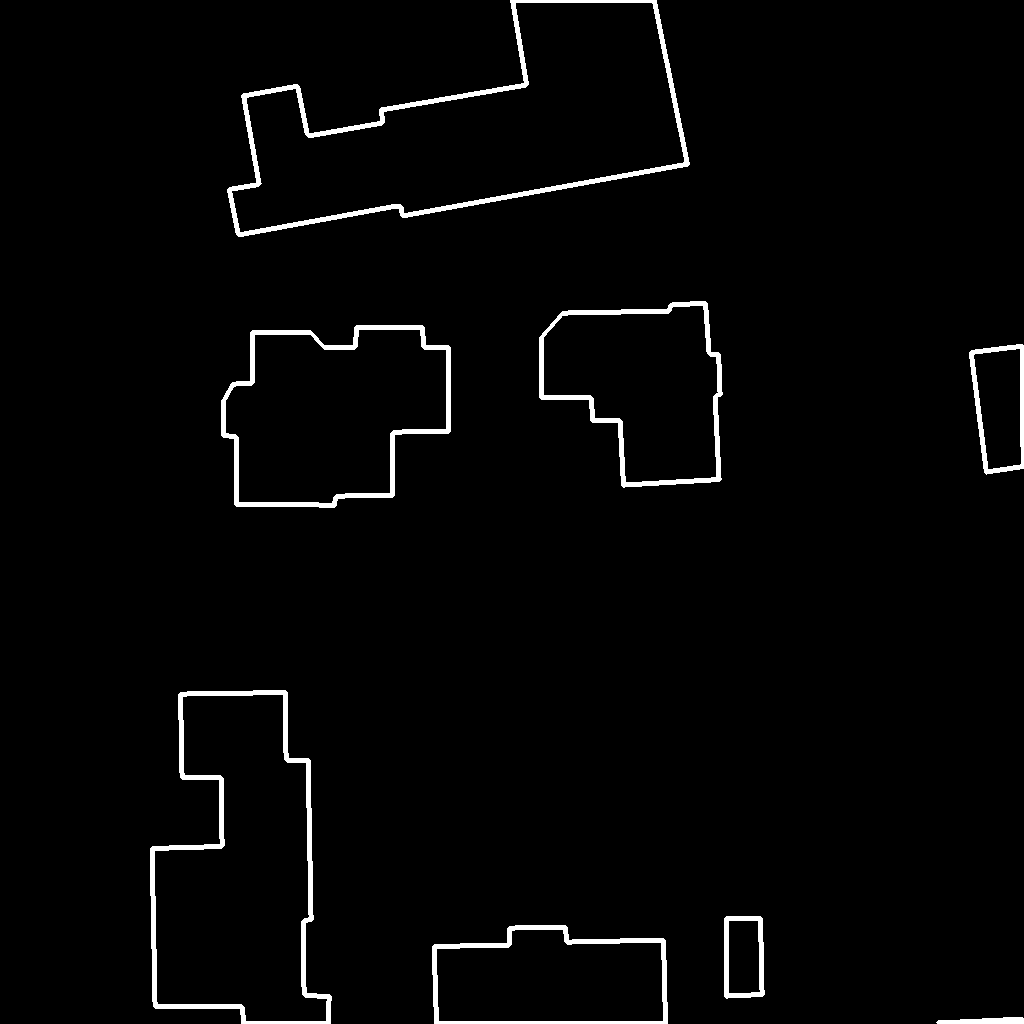building: (229, 0, 689, 236), (152, 692, 330, 1024), (223, 327, 449, 506), (541, 303, 721, 486), (434, 927, 667, 1024), (971, 346, 1024, 473), (726, 918, 763, 997), (928, 1019, 1024, 1024)
